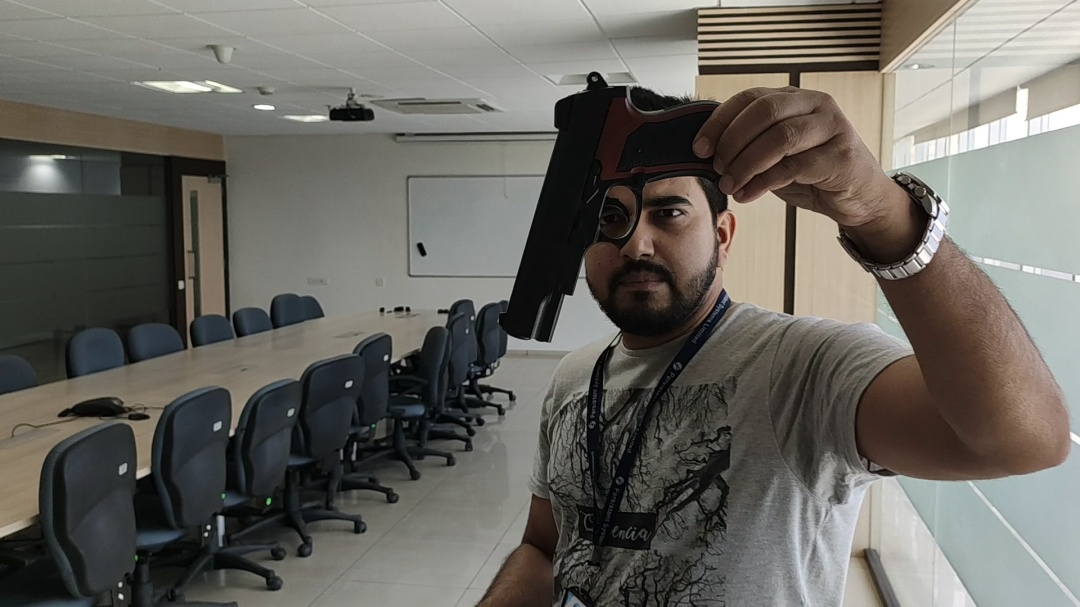gun: (507, 65, 643, 355)
